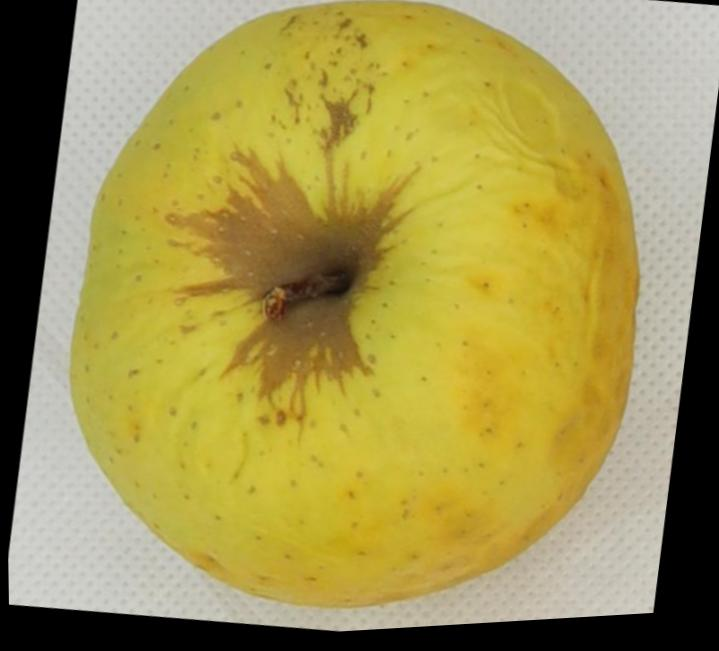apple: (69, 0, 636, 606)
bruise_discoloration: (163, 98, 412, 415)
